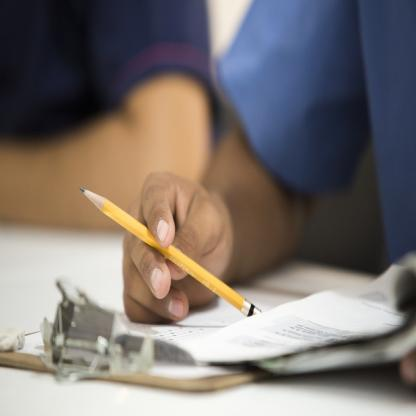pencil: (79, 187, 264, 324)
